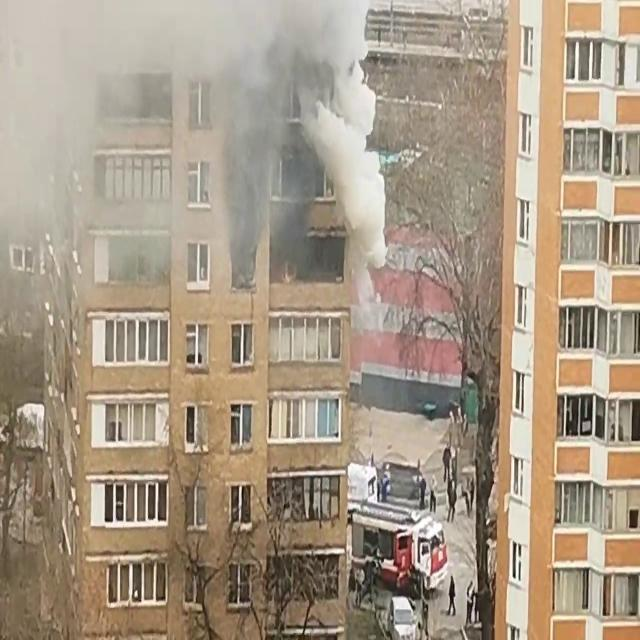Smoke: (202, 0, 391, 292), (0, 0, 105, 380)
